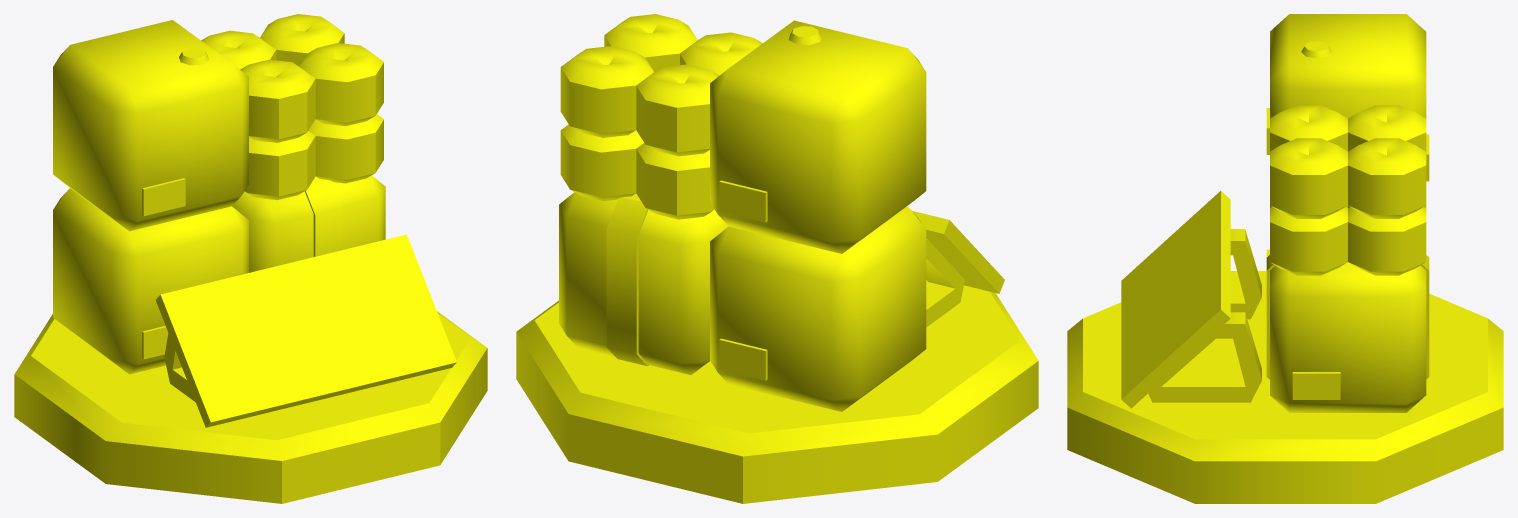
Rendered from kaykit-roofmodule-cargo-c.glb.
3 views of the same model, side by side, from view 1: azimuth 30°, elevation 25°; view 2: azimuth 150°, elevation 25°; view 3: azimuth 270°, elevation 25° (orthographic). The views are drawn at different scales.
Visible parts, largest first — view 1: roofmodule_cargo_C; view 2: roofmodule_cargo_C; view 3: roofmodule_cargo_C.
Part boxes in pixels (x1=…): roofmodule_cargo_C: x1=14, y1=14, x2=487, y2=503; roofmodule_cargo_C: x1=516, y1=14, x2=1038, y2=503; roofmodule_cargo_C: x1=1067, y1=14, x2=1503, y2=503.
Size of the model in its own units: 1.4 by 1.22 by 1.4.
